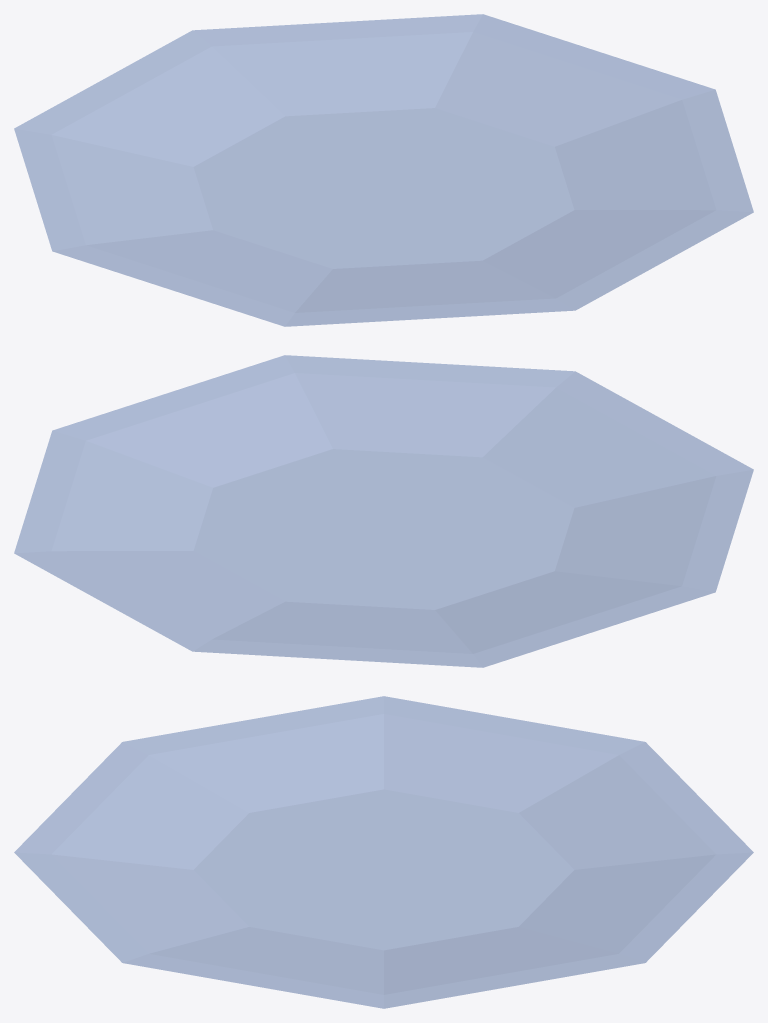
The model's file is PlateSmall.fbx.
3 renders of one model, top to bottom at view 1: azimuth 30°, elevation 25°; view 2: azimuth 150°, elevation 25°; view 3: azimuth 270°, elevation 25°, orthographic. The views are drawn at different scales.
Visible parts, largest first — view 1: PlateSmall; view 2: PlateSmall; view 3: PlateSmall.
Boxes of the visible parts, bbox=[...] form: PlateSmall: bbox=[14, 14, 753, 326]; PlateSmall: bbox=[14, 355, 753, 667]; PlateSmall: bbox=[14, 696, 753, 1008].
Bounding box in the file's own units: 77.96 × 3.16 × 77.96.
